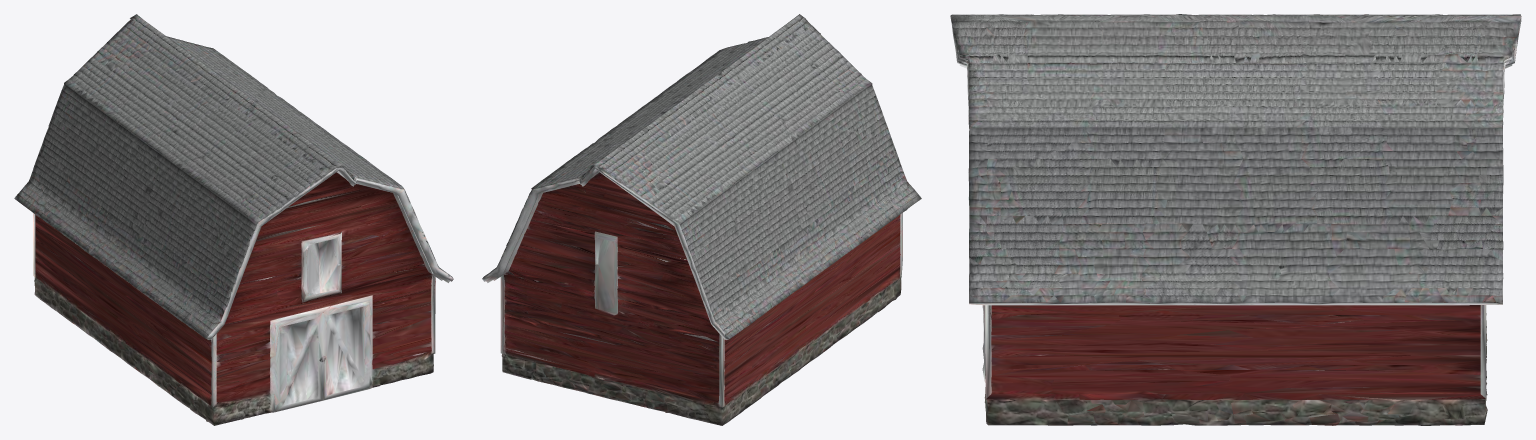
Rendered from barn.glb.
3 renders of one model, left to right at view 1: azimuth 30°, elevation 25°; view 2: azimuth 150°, elevation 25°; view 3: azimuth 270°, elevation 25°, orthographic. The views are drawn at different scales.
Parts seen in each view (by area): view 1: Mesh_0; view 2: Mesh_0; view 3: Mesh_0.
Boxes of the visible parts, x1=… form: Mesh_0: x1=14, y1=14, x2=453, y2=425; Mesh_0: x1=482, y1=14, x2=921, y2=425; Mesh_0: x1=950, y1=14, x2=1521, y2=425.
Bounding box in the file's own units: 4.28 × 4 × 6.12.
Materials: 1 (1 with a texture image).
